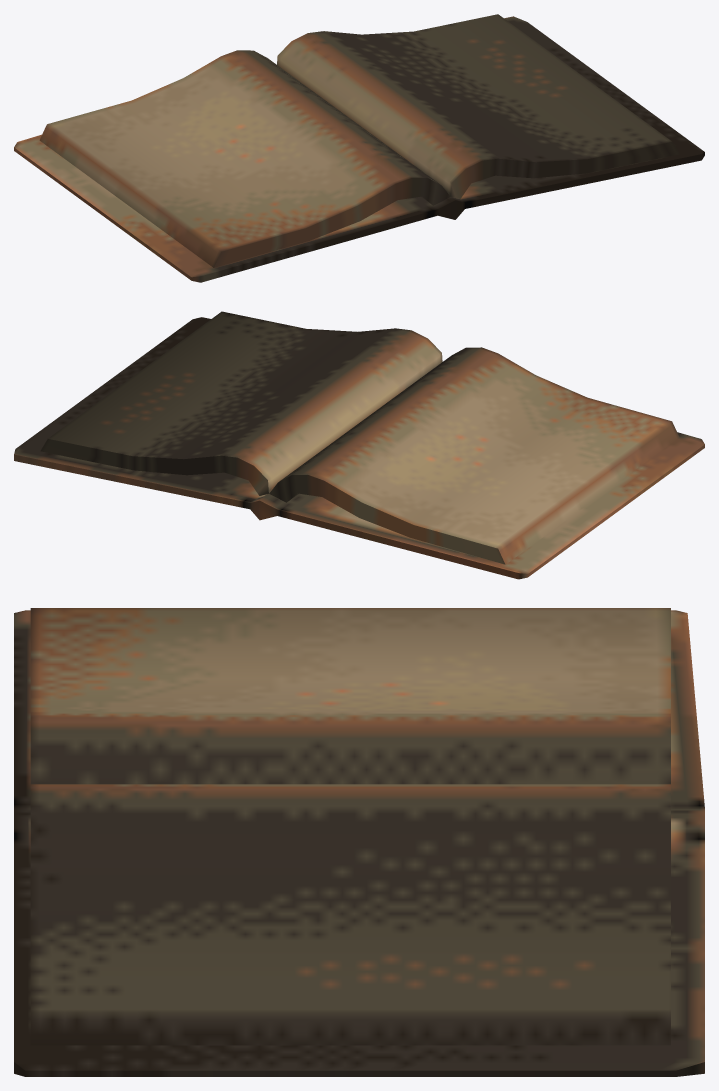
The model's file is rap.ico.obj.
3 views of the same model, one above another, from view 1: azimuth 30°, elevation 25°; view 2: azimuth 150°, elevation 25°; view 3: azimuth 270°, elevation 25° (orthographic). The views are drawn at different scales.
Size of the model in its own units: 3.94 by 0.3589 by 2.5.
Materials: 1 (1 with a texture image).
